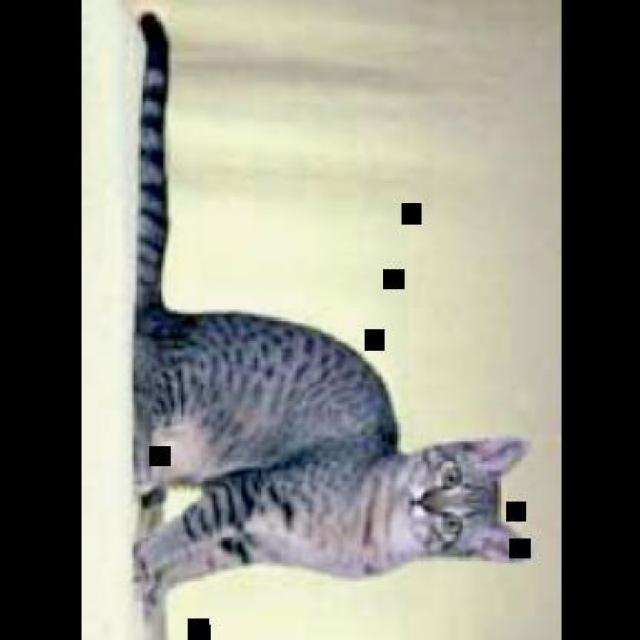unauthorized: (129, 9, 531, 617), (131, 432, 531, 617)
